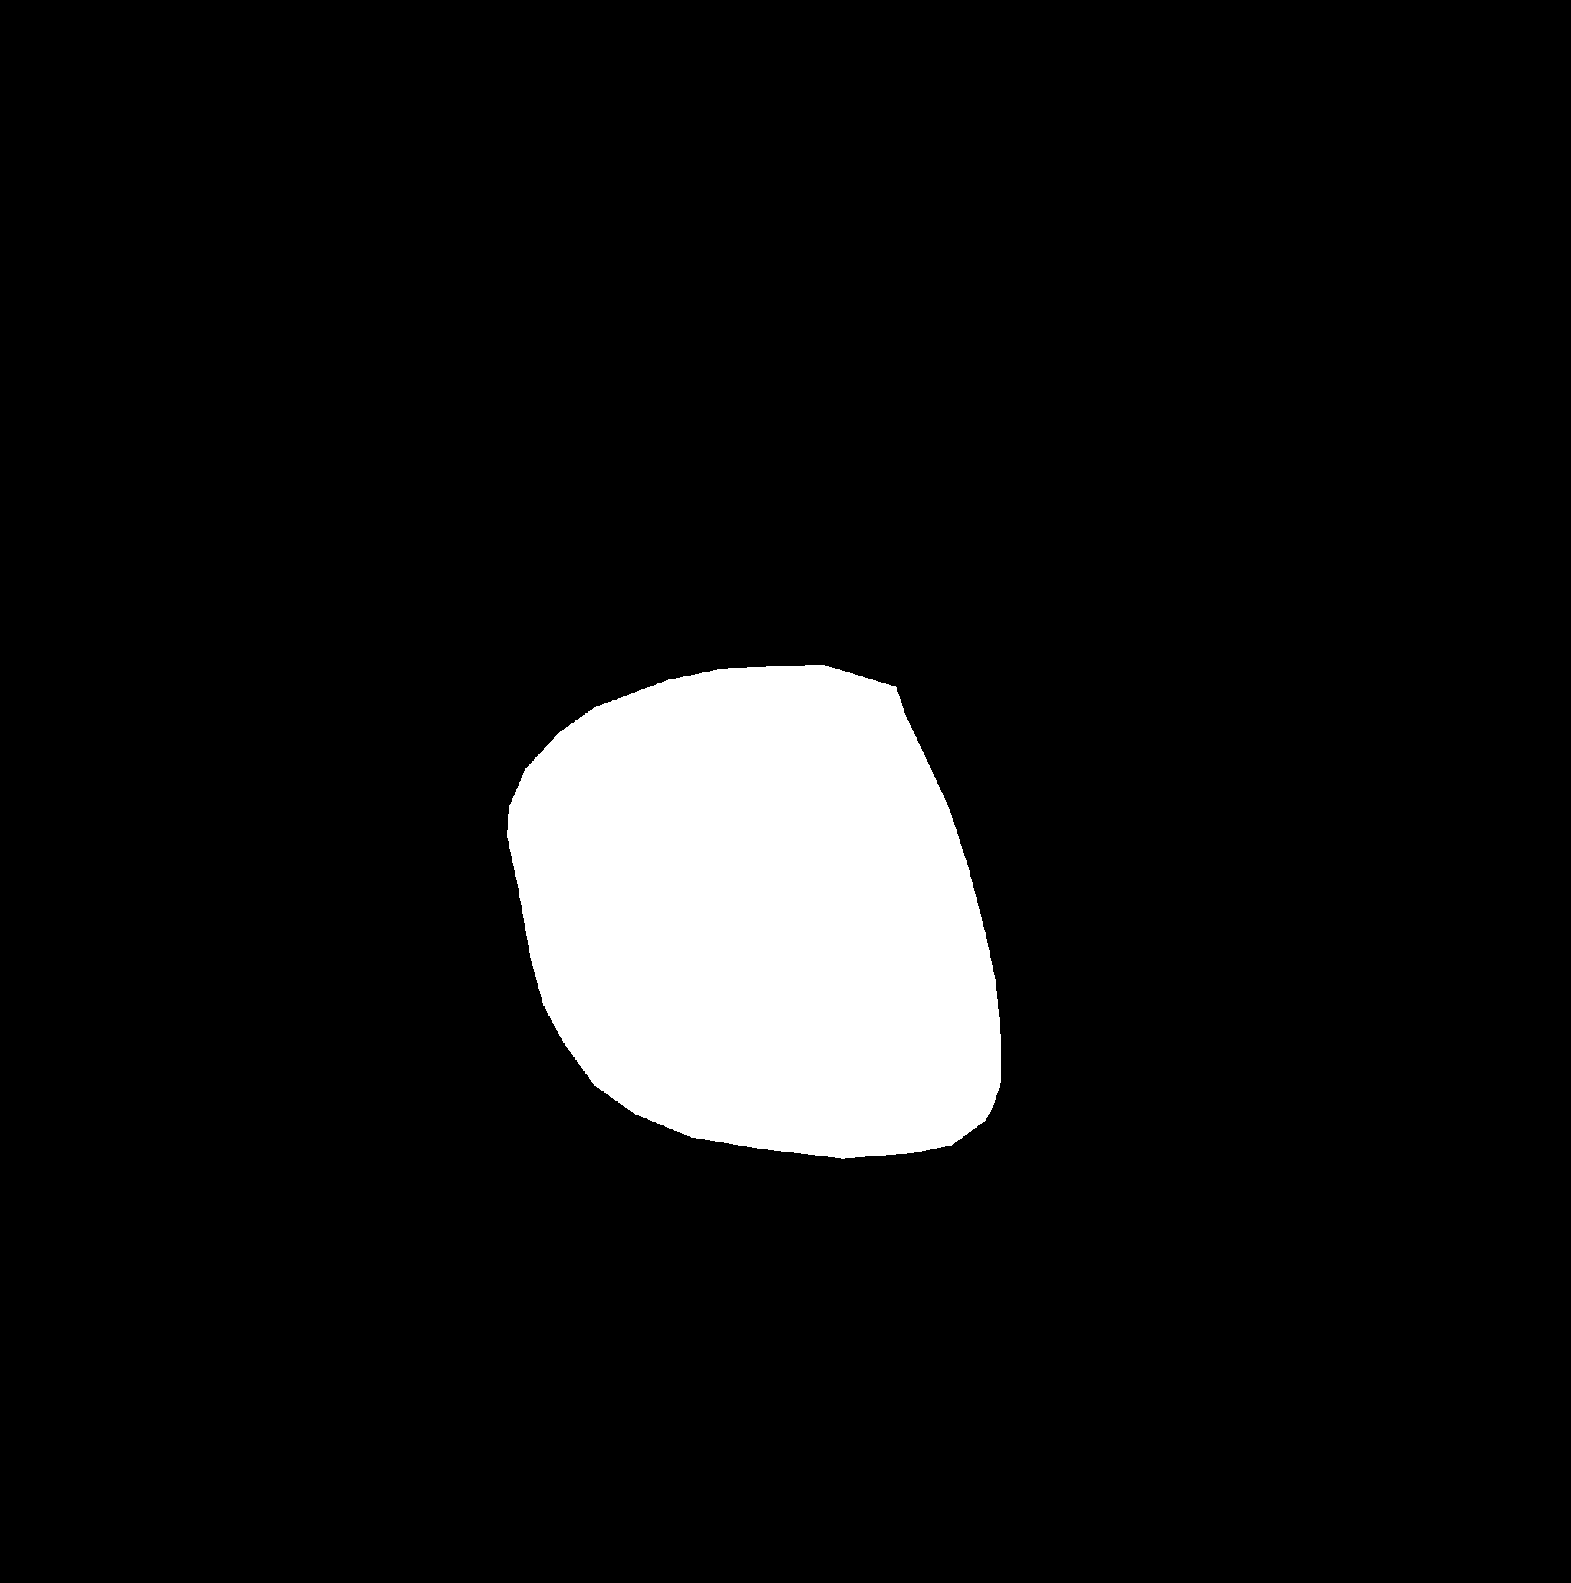heart: (514, 708, 1003, 1133)
left_lung: (224, 324, 632, 1256)
right_lung: (793, 394, 1275, 1288)
